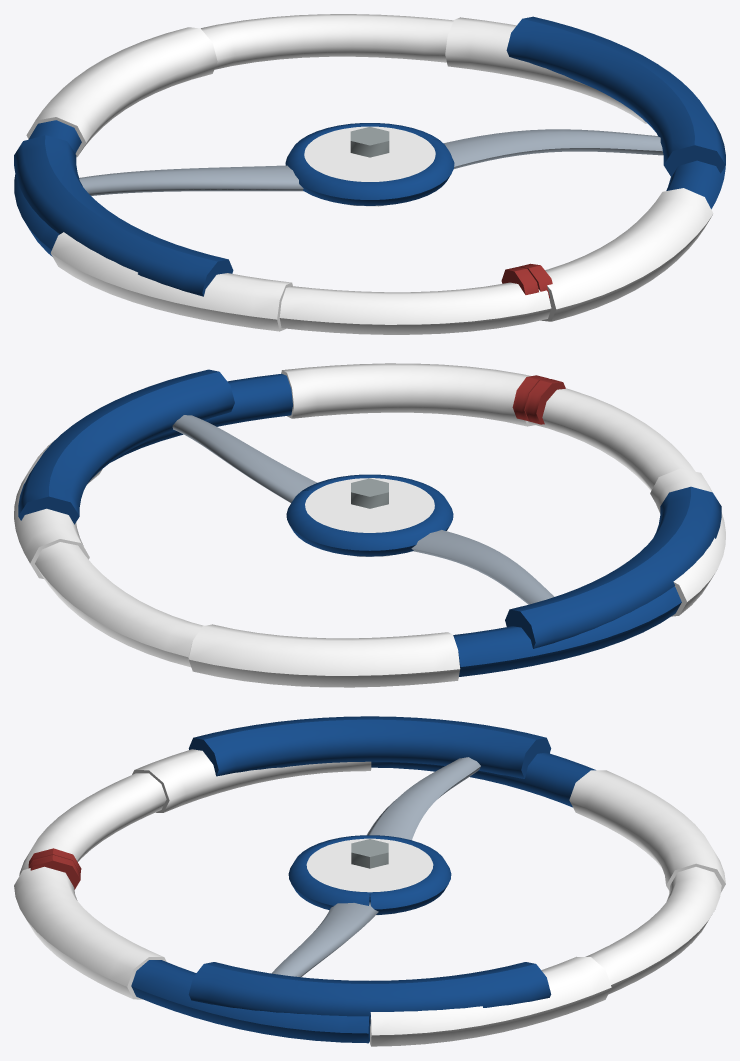
File: Wheel_14_R_白波・瑠璃.glb
The picture shows the model from 3 angles, top to bottom: view 1: azimuth 30°, elevation 25°; view 2: azimuth 150°, elevation 25°; view 3: azimuth 270°, elevation 25°; orthographic projection. The views are drawn at different scales.
Visible parts, largest first — view 1: Wheel_14_R; view 2: Wheel_14_R; view 3: Wheel_14_R.
Part boxes in pixels (x1,y1,x2,y2): Wheel_14_R: (14, 14, 725, 334); Wheel_14_R: (14, 363, 725, 687); Wheel_14_R: (14, 716, 725, 1046).
Size of the model in its own units: 0.3322 by 0.0299 by 0.3322.
4 materials, 4 textured.
